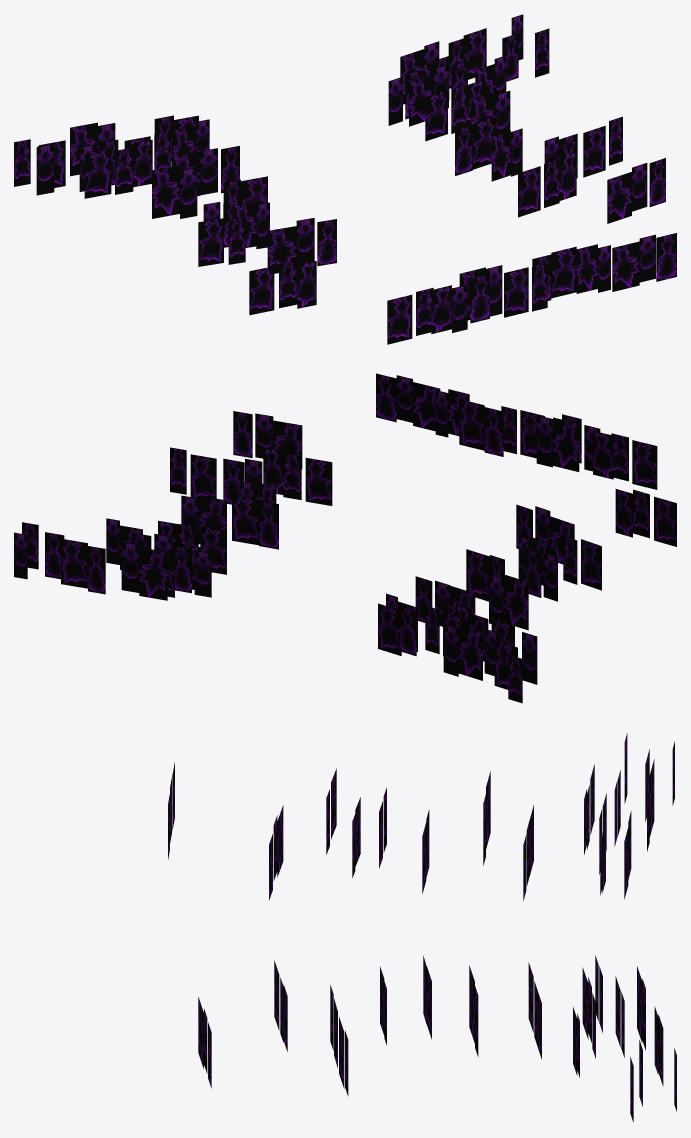
The picture shows the model from 3 angles, top to bottom: view 1: azimuth 30°, elevation 25°; view 2: azimuth 150°, elevation 25°; view 3: azimuth 270°, elevation 25°; orthographic projection. The views are drawn at different scales.
Visible parts, largest first — view 1: Fas00_pe_1; view 2: Fas00_pe_1; view 3: Fas00_pe_1.
Boxes of the visible parts, x1,y1,x2,y2 form: Fas00_pe_1: (14, 14, 676, 344); Fas00_pe_1: (14, 373, 676, 703); Fas00_pe_1: (168, 733, 676, 1122).
Bounding box in the file's own units: 5.06 × 0.5146 × 4.36.
1 material, 1 textured.
